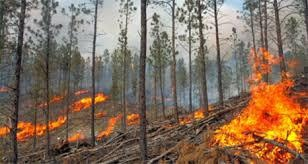fire: (210, 45, 307, 161), (7, 87, 130, 142), (167, 104, 207, 125)
